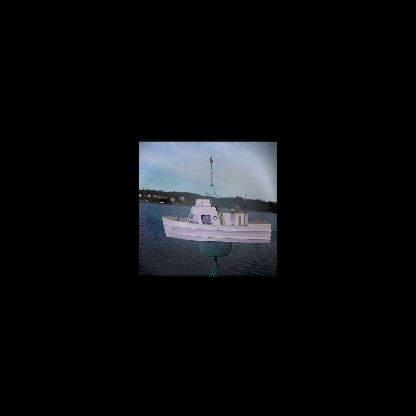YP689: (162, 155, 272, 244)
